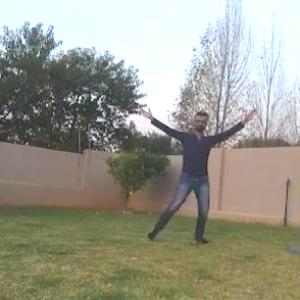takeoff: (133, 100, 258, 239)
